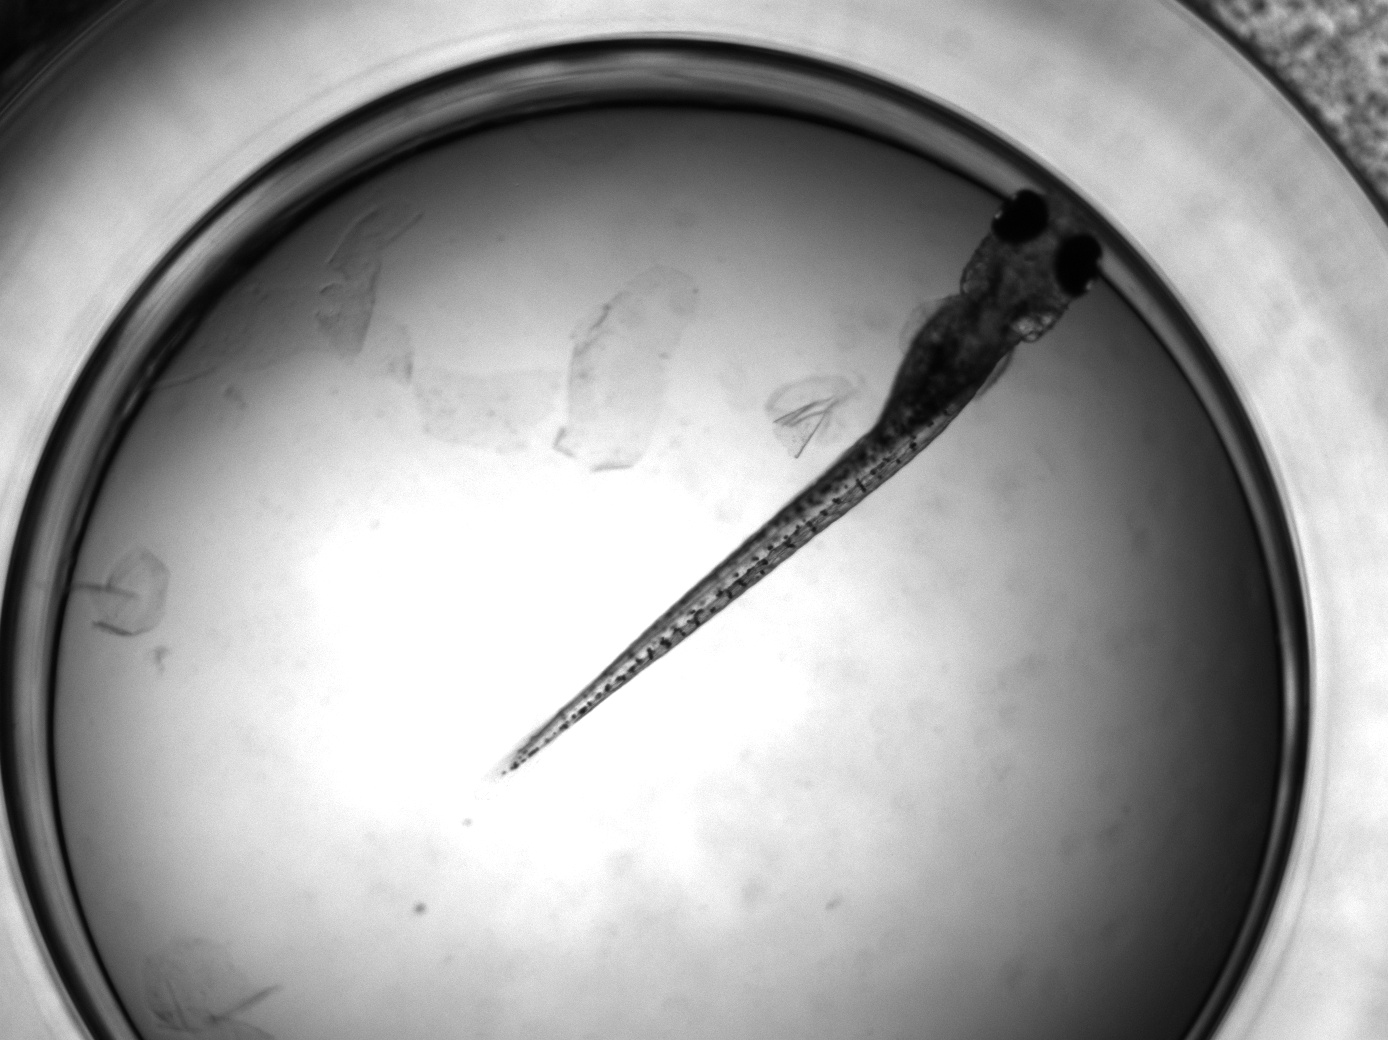debris: (551, 267, 698, 473), (72, 544, 171, 640), (767, 376, 858, 459)
embryo: (507, 187, 1104, 773)
eye: (1053, 231, 1104, 300), (990, 188, 1049, 244)
yolksac: (880, 293, 1008, 449)
